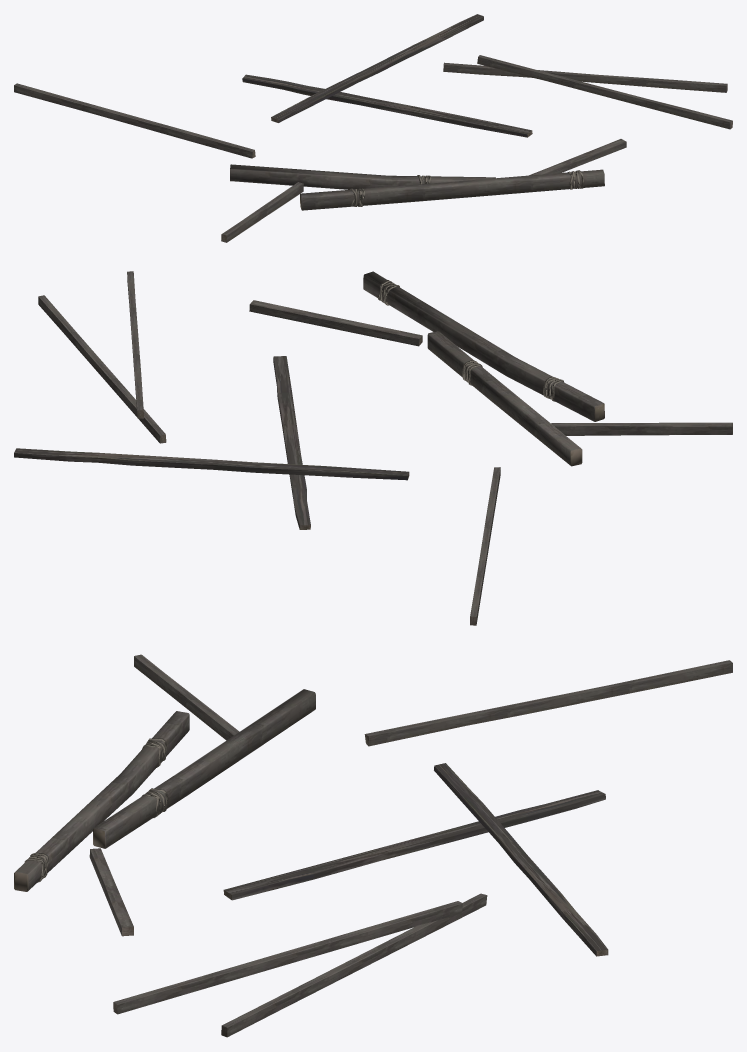
The model's file is AEG023_448out-transformed.glb.
3 renders of one model, top to bottom at view 1: azimuth 30°, elevation 25°; view 2: azimuth 150°, elevation 25°; view 3: azimuth 270°, elevation 25°, orthographic. The views are drawn at different scales.
Visible parts, largest first — view 1: default; view 2: default; view 3: default.
Boxes of the visible parts, x1,y1,x2,y2 form: default: [14, 14, 732, 242]; default: [14, 271, 732, 625]; default: [14, 654, 732, 1037].
Bounding box in the file's own units: 9.28 × 0.3867 × 7.62.
1 material, 1 textured.
